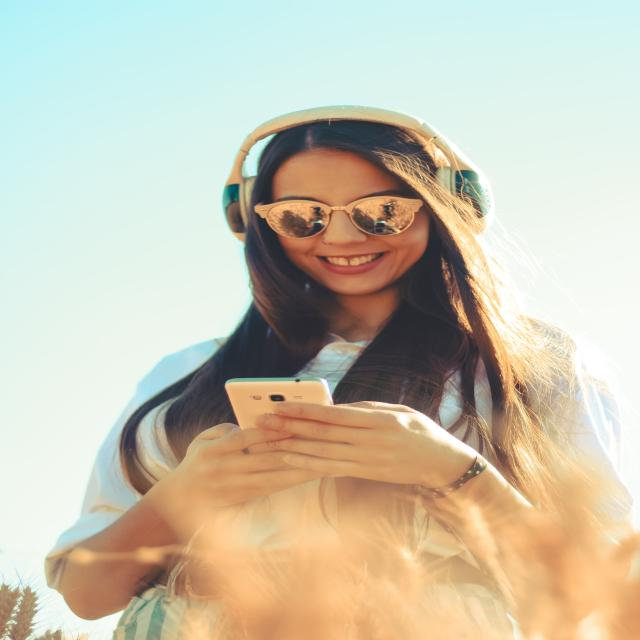phone: (221, 372, 337, 448)
